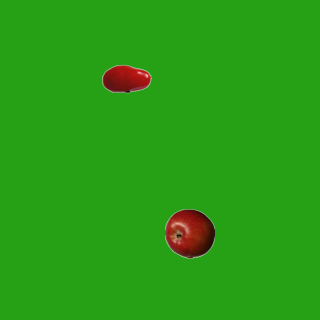Apple Braeburn: (164, 208, 214, 258)
Tomato 2: (101, 53, 151, 103)
